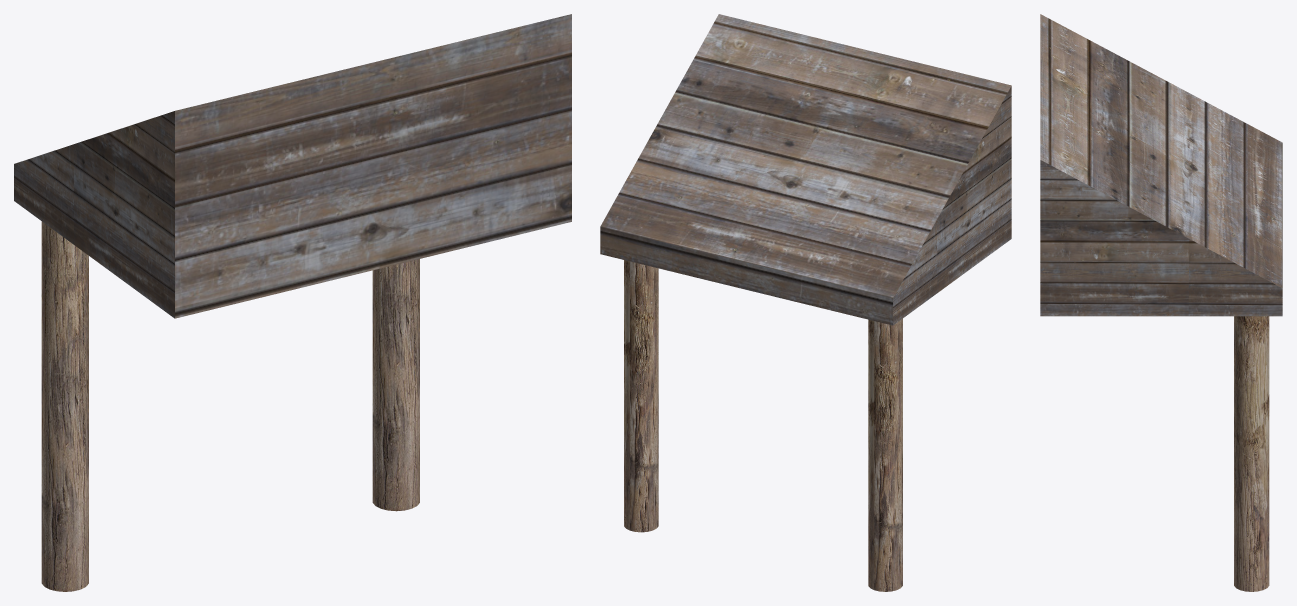
File: naves.FBX
3 views of the same model, side by side, from view 1: azimuth 30°, elevation 25°; view 2: azimuth 150°, elevation 25°; view 3: azimuth 270°, elevation 25° (orthographic). The views are drawn at different scales.
Parts seen in each view (by area): view 1: Cylinder002; view 2: Cylinder002; view 3: Cylinder002.
Boxes of the visible parts, x1,y1,x2,y2 form: Cylinder002: [14, 14, 571, 591]; Cylinder002: [600, 14, 1011, 591]; Cylinder002: [1040, 14, 1282, 591].
Size of the model in its own units: 143 by 200 by 100.
Materials: 1 (1 with a texture image).
